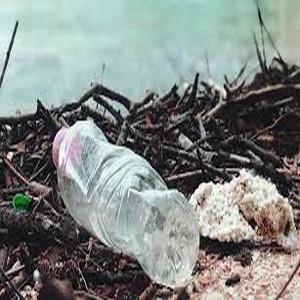Plastic: (49, 121, 201, 286)
